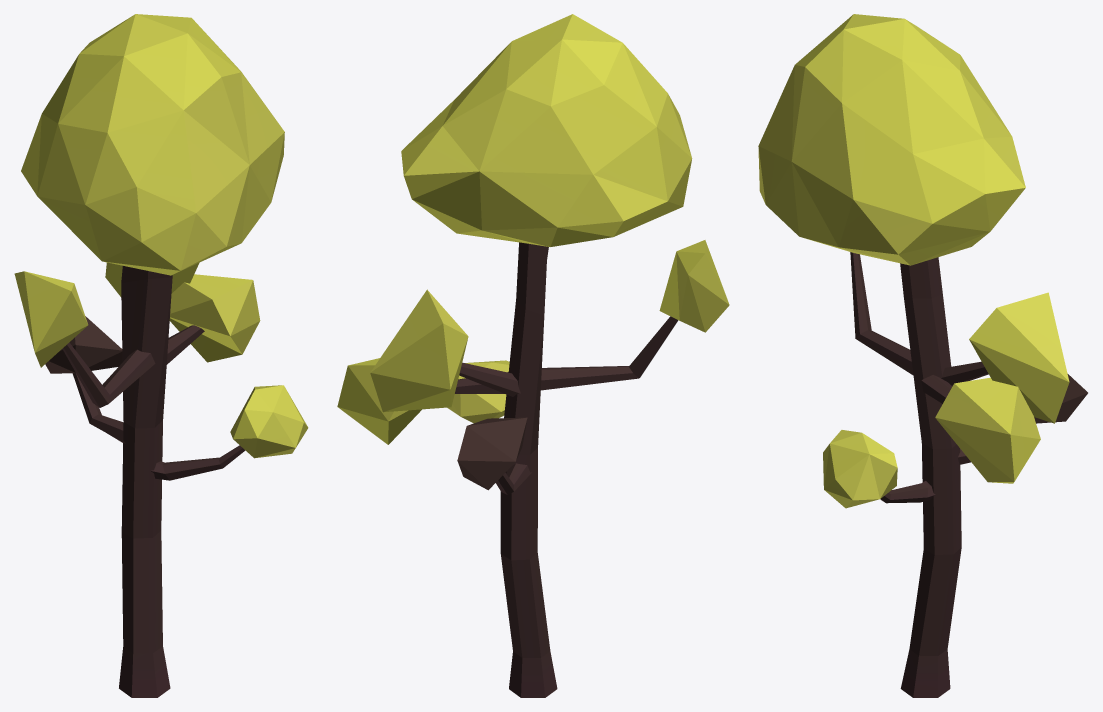
File: tree3.fbx
3 renders of one model, left to right at view 1: azimuth 30°, elevation 25°; view 2: azimuth 150°, elevation 25°; view 3: azimuth 270°, elevation 25°, orthographic. The views are drawn at different scales.
Visible parts, largest first — view 1: Cylinder.006; view 2: Cylinder.006; view 3: Cylinder.006.
Boxes of the visible parts, x1,y1,x2,y2 form: Cylinder.006: (14,14,308,697); Cylinder.006: (337,14,729,697); Cylinder.006: (758,14,1087,697).
Bounding box in the file's own units: 451 × 921 × 417.
